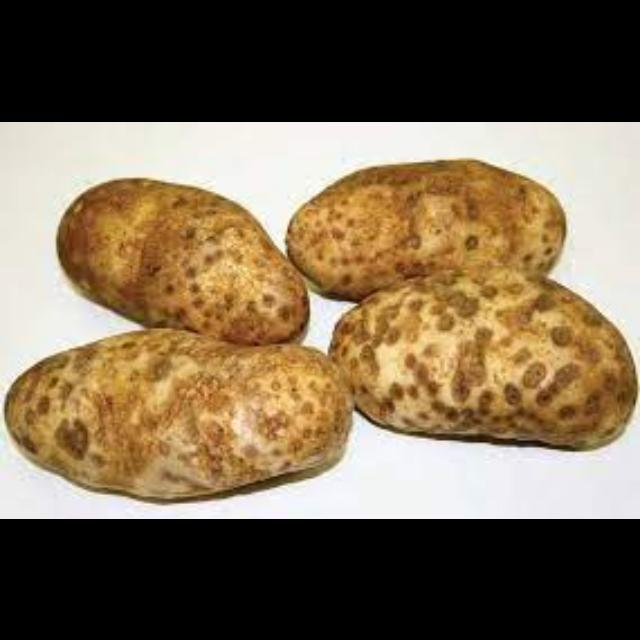Diseased-fungal potato: (1, 322, 356, 504), (334, 260, 640, 458), (283, 142, 585, 306), (49, 173, 310, 351)
